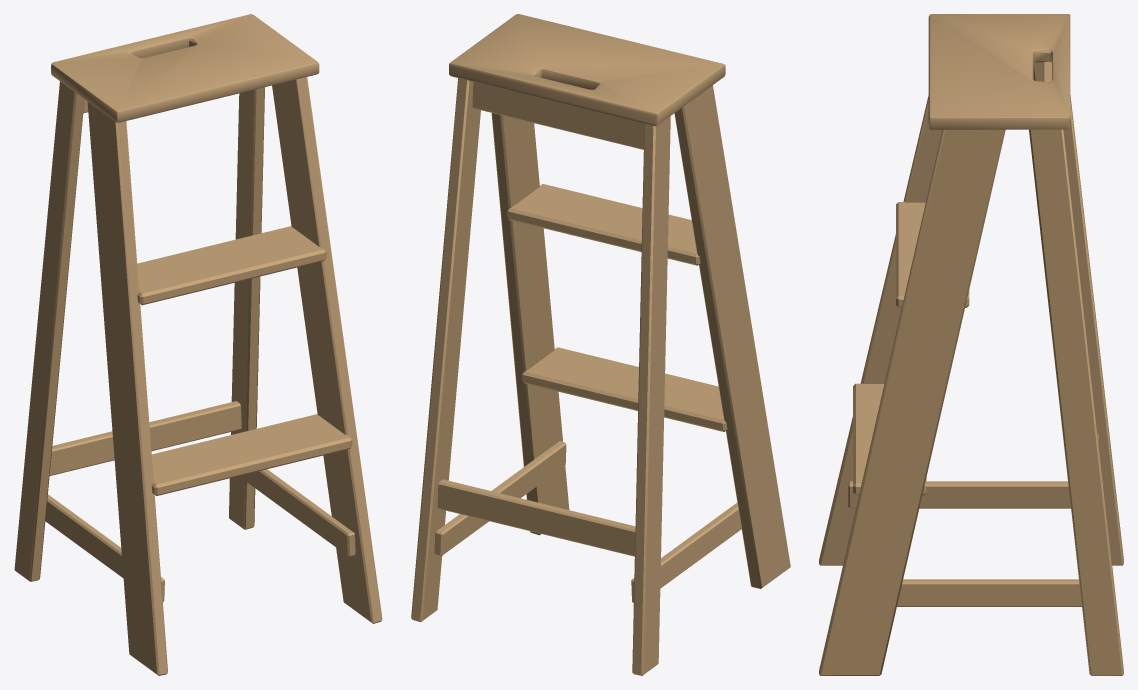
File: Kit_StepStool.fbx
3 renders of one model, left to right at view 1: azimuth 30°, elevation 25°; view 2: azimuth 150°, elevation 25°; view 3: azimuth 270°, elevation 25°, orthographic. The views are drawn at different scales.
Visible parts, largest first — view 1: Kit_StepStool_LOD0; view 2: Kit_StepStool_LOD0; view 3: Kit_StepStool_LOD0.
Part boxes in pixels (x1=…): Kit_StepStool_LOD0: x1=14, y1=14, x2=382, y2=675; Kit_StepStool_LOD0: x1=411, y1=14, x2=790, y2=675; Kit_StepStool_LOD0: x1=819, y1=14, x2=1123, y2=675.
Size of what is drawn, in the model's own units: 0.4498 by 1 by 0.4991.
